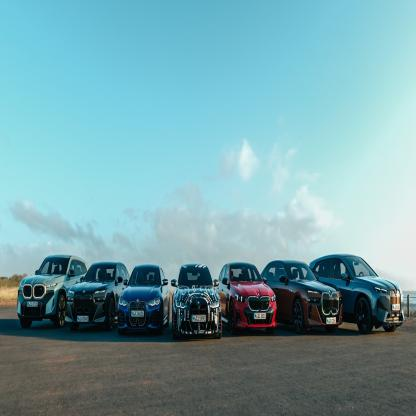car: (267, 257, 341, 334), (220, 259, 277, 341), (345, 254, 405, 331), (171, 266, 225, 340), (16, 252, 67, 327), (70, 261, 120, 332), (120, 264, 168, 330)
